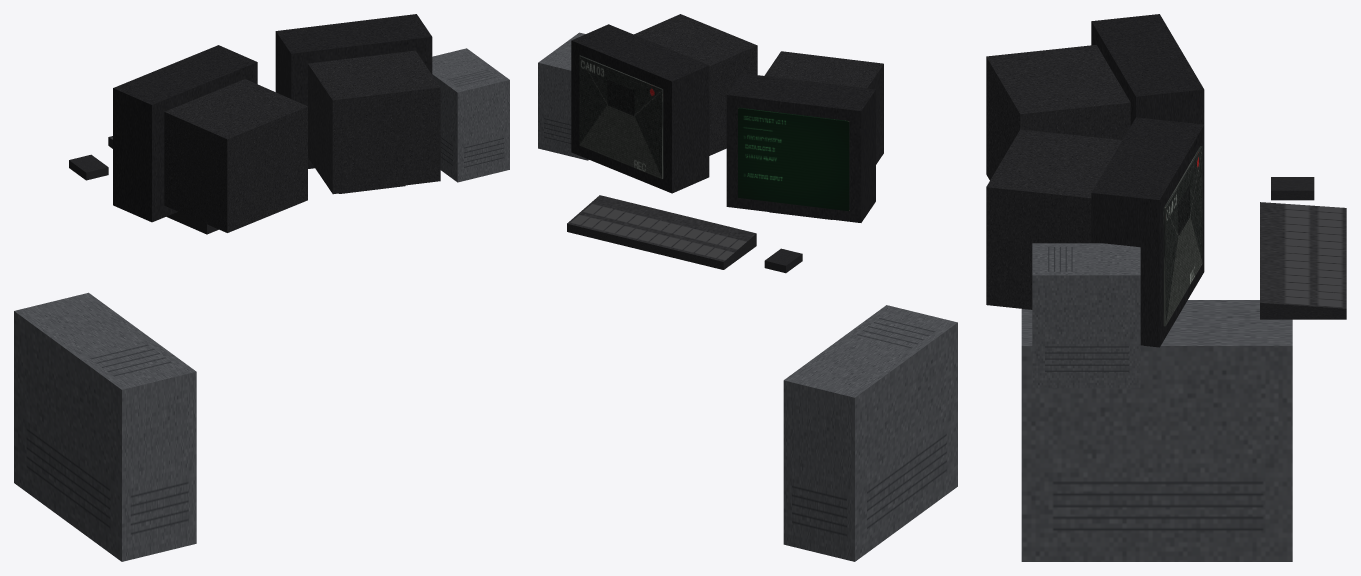
The model's file is SM_SavePC_Security.fbx.
3 views of the same model, side by side, from view 1: azimuth 30°, elevation 25°; view 2: azimuth 150°, elevation 25°; view 3: azimuth 270°, elevation 25° (orthographic). The views are drawn at different scales.
Visible parts, largest first — view 1: SM_SavePC_Security; view 2: SM_SavePC_Security; view 3: SM_SavePC_Security.
Boxes of the visible parts, box(x1,y1,x2,y2) form: SM_SavePC_Security: box(14, 14, 509, 561); SM_SavePC_Security: box(538, 14, 957, 561); SM_SavePC_Security: box(986, 14, 1346, 561).
Bounding box in the file's own units: 1.05 × 1.08 × 0.6652.
Materials: 1 (1 with a texture image).
